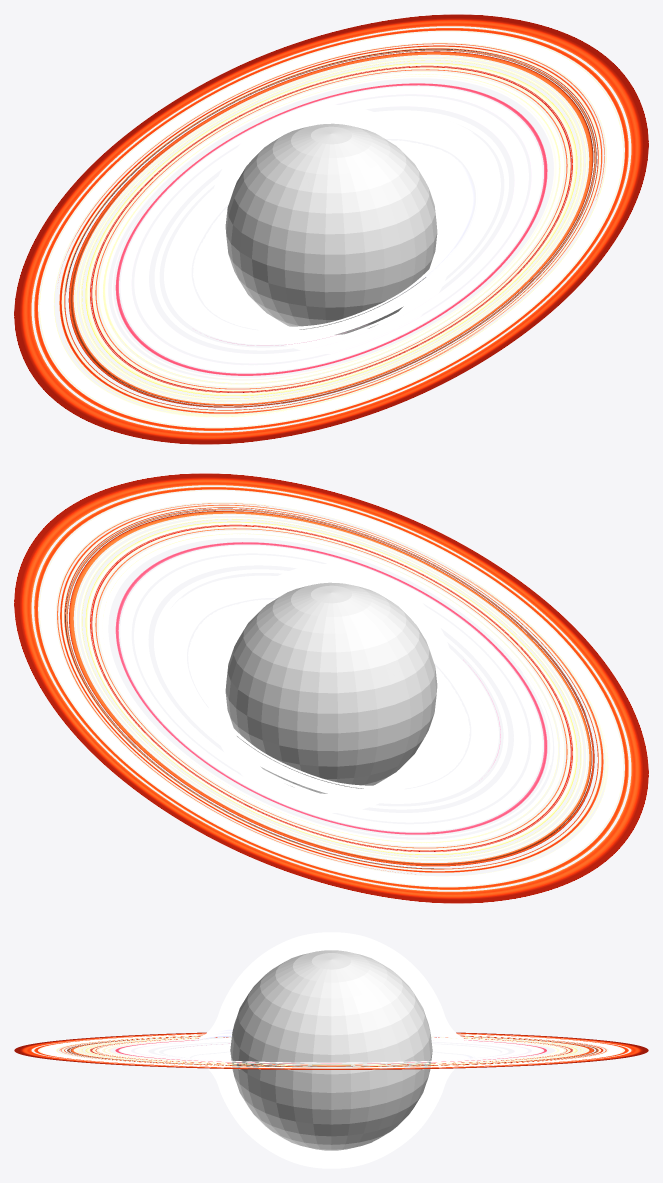
File: vlbi.glb
The picture shows the model from 3 angles, top to bottom: view 1: azimuth 30°, elevation 25°; view 2: azimuth 150°, elevation 25°; view 3: azimuth 270°, elevation 25°; orthographic projection. The views are drawn at different scales.
Visible parts, largest first — view 1: black hole, center; view 2: black hole, center; view 3: center, black hole.
Boxes of the visible parts, left/top/right/bottom form: black hole: left=14, top=14, right=648, bottom=444; center: left=225, top=123, right=437, bottom=334; black hole: left=14, top=473, right=648, bottom=903; center: left=225, top=582, right=437, bottom=793; center: left=230, top=950, right=432, bottom=1150; black hole: left=14, top=932, right=648, bottom=1168.
Bounding box in the file's own units: 10.38 × 4.16 × 11.15.
2 materials, 1 textured.
